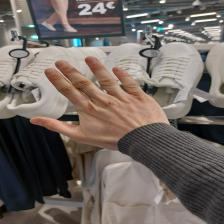five: (30, 55, 175, 154)
